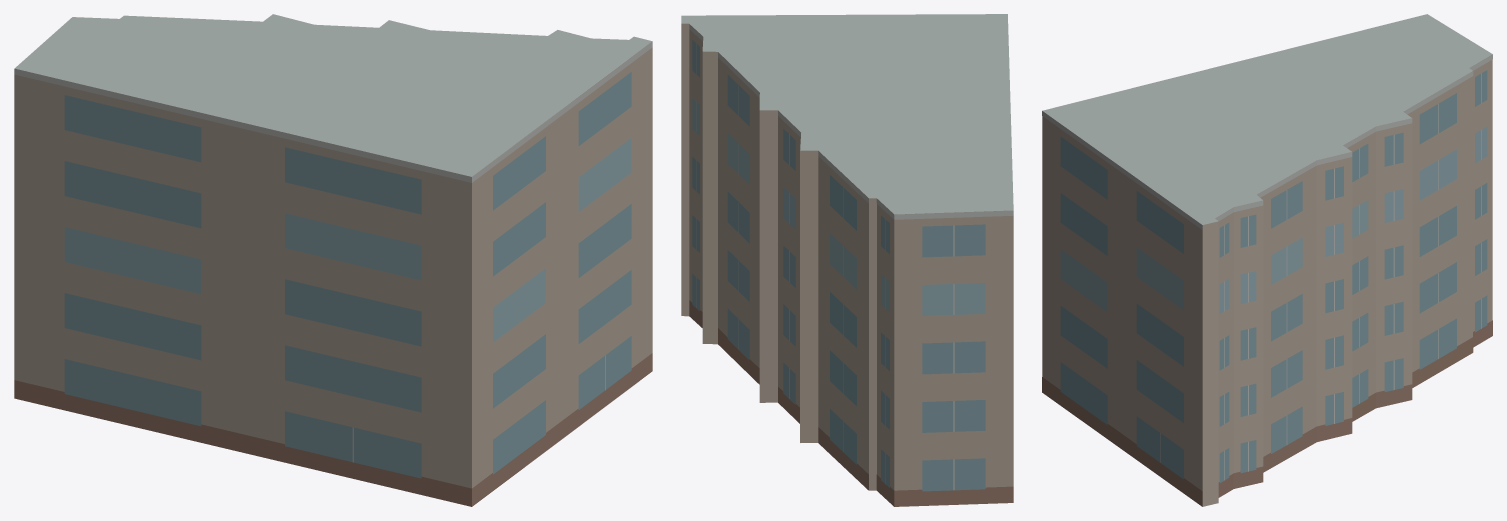
File: survey-upis-32646786.glb
3 renders of one model, left to right at view 1: azimuth 30°, elevation 25°; view 2: azimuth 150°, elevation 25°; view 3: azimuth 270°, elevation 25°, orthographic. The views are drawn at different scales.
Parts seen in each view (by area): view 1: survey-upis-32646786.tmp; view 2: survey-upis-32646786.tmp; view 3: survey-upis-32646786.tmp.
Part boxes in pixels (x1,y1,x2,y2): survey-upis-32646786.tmp: (14,14,652,506); survey-upis-32646786.tmp: (681,14,1013,506); survey-upis-32646786.tmp: (1042,14,1492,506).
Size of the model in its own units: 21.54 by 13.4 by 19.43.
